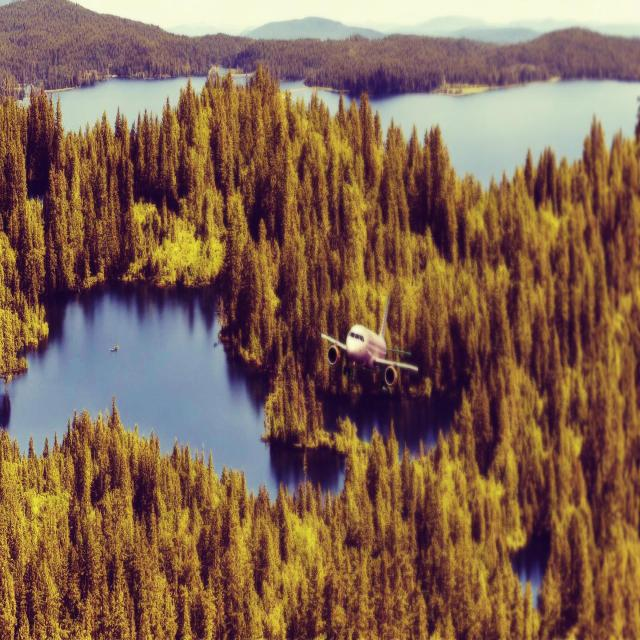airplane: (321, 291, 418, 389)
